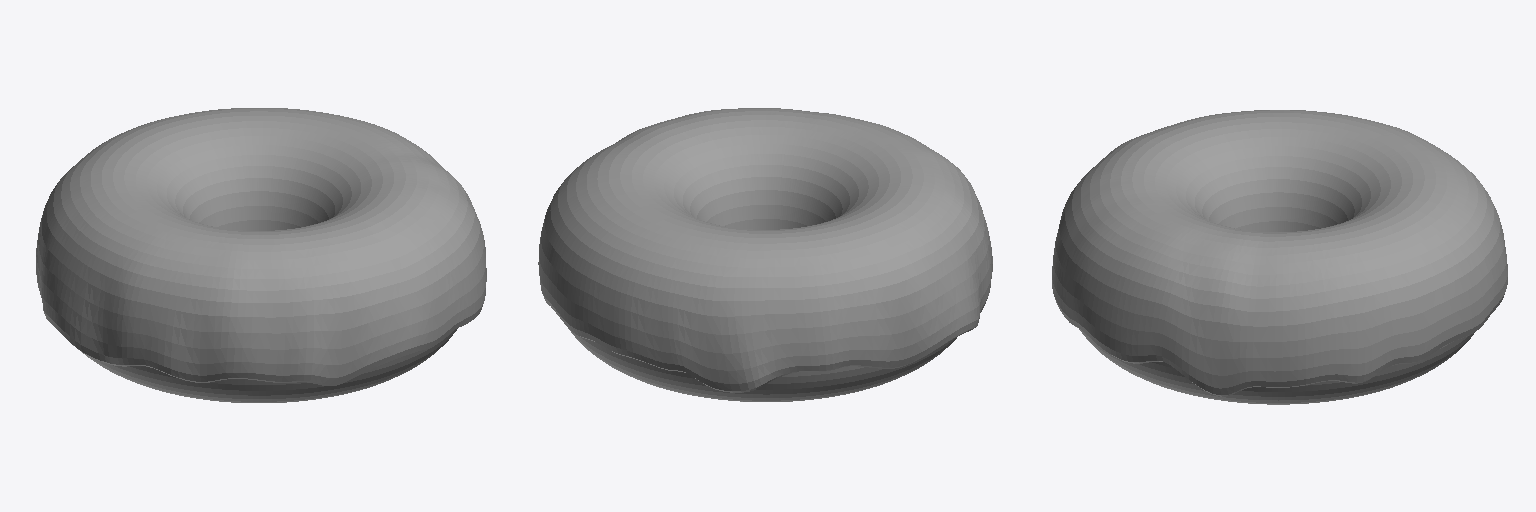
Rendered from Donut.obj.
The picture shows the model from 3 angles: view 1: azimuth 30°, elevation 25°; view 2: azimuth 150°, elevation 25°; view 3: azimuth 270°, elevation 25°; orthographic projection.
Visible parts, largest first — view 1: Torus.002_Torus.003, Torus.001; view 2: Torus.002_Torus.003, Torus.001; view 3: Torus.002_Torus.003, Torus.001.
Boxes of the visible parts, x1,y1,x2,y2 form: Torus.002_Torus.003: [36, 108, 486, 385]; Torus.001: [83, 328, 457, 402]; Torus.002_Torus.003: [538, 108, 992, 392]; Torus.001: [568, 328, 956, 401]; Torus.002_Torus.003: [1052, 110, 1507, 396]; Torus.001: [1079, 329, 1474, 404].
Bounding box in the file's own units: 0.2071 × 0.0788 × 0.2069.